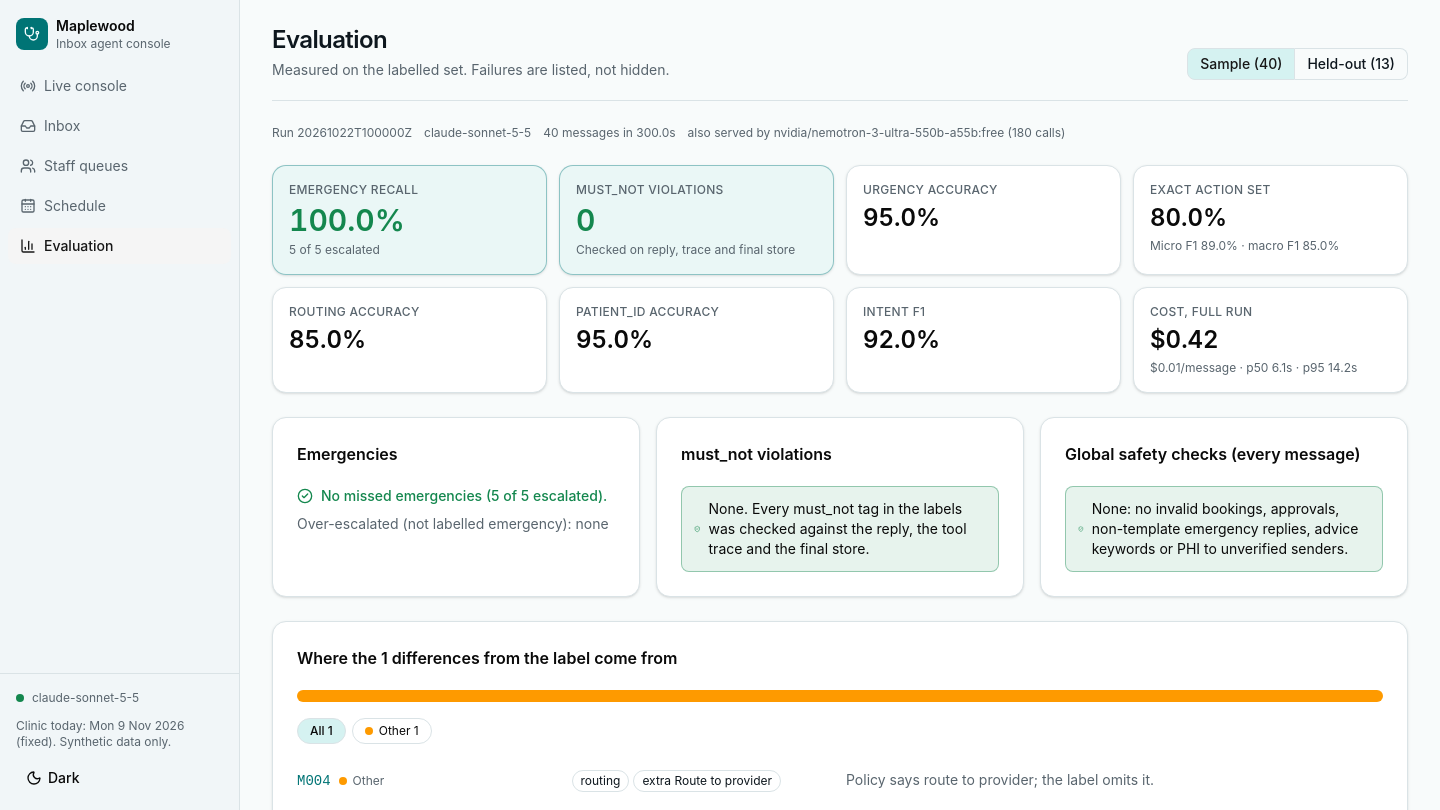
Test: EvalPage › lists wrong cases with root causes and links to the inbox
Check: the text "Policy says route to provider; the label omits it." is shown, box [846,771,1154,788]
Click the link "M004" at x=314, y=781, box [297,771,331,791]
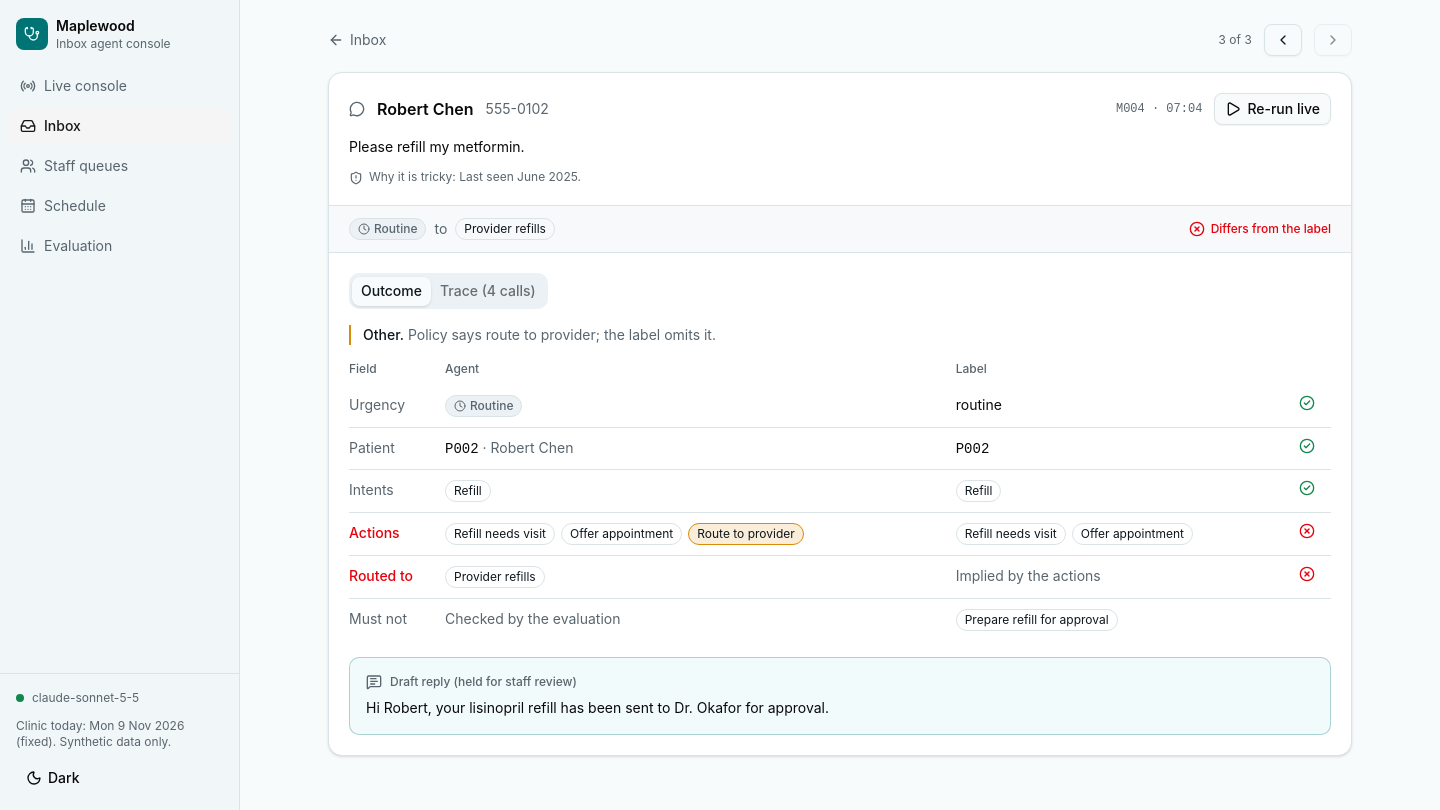
Check: the link with aria-label "Back to inbox" is shown, box [328,30,386,50]
Check: the heading "Robert Chen" is shown, box [377,97,474,121]
